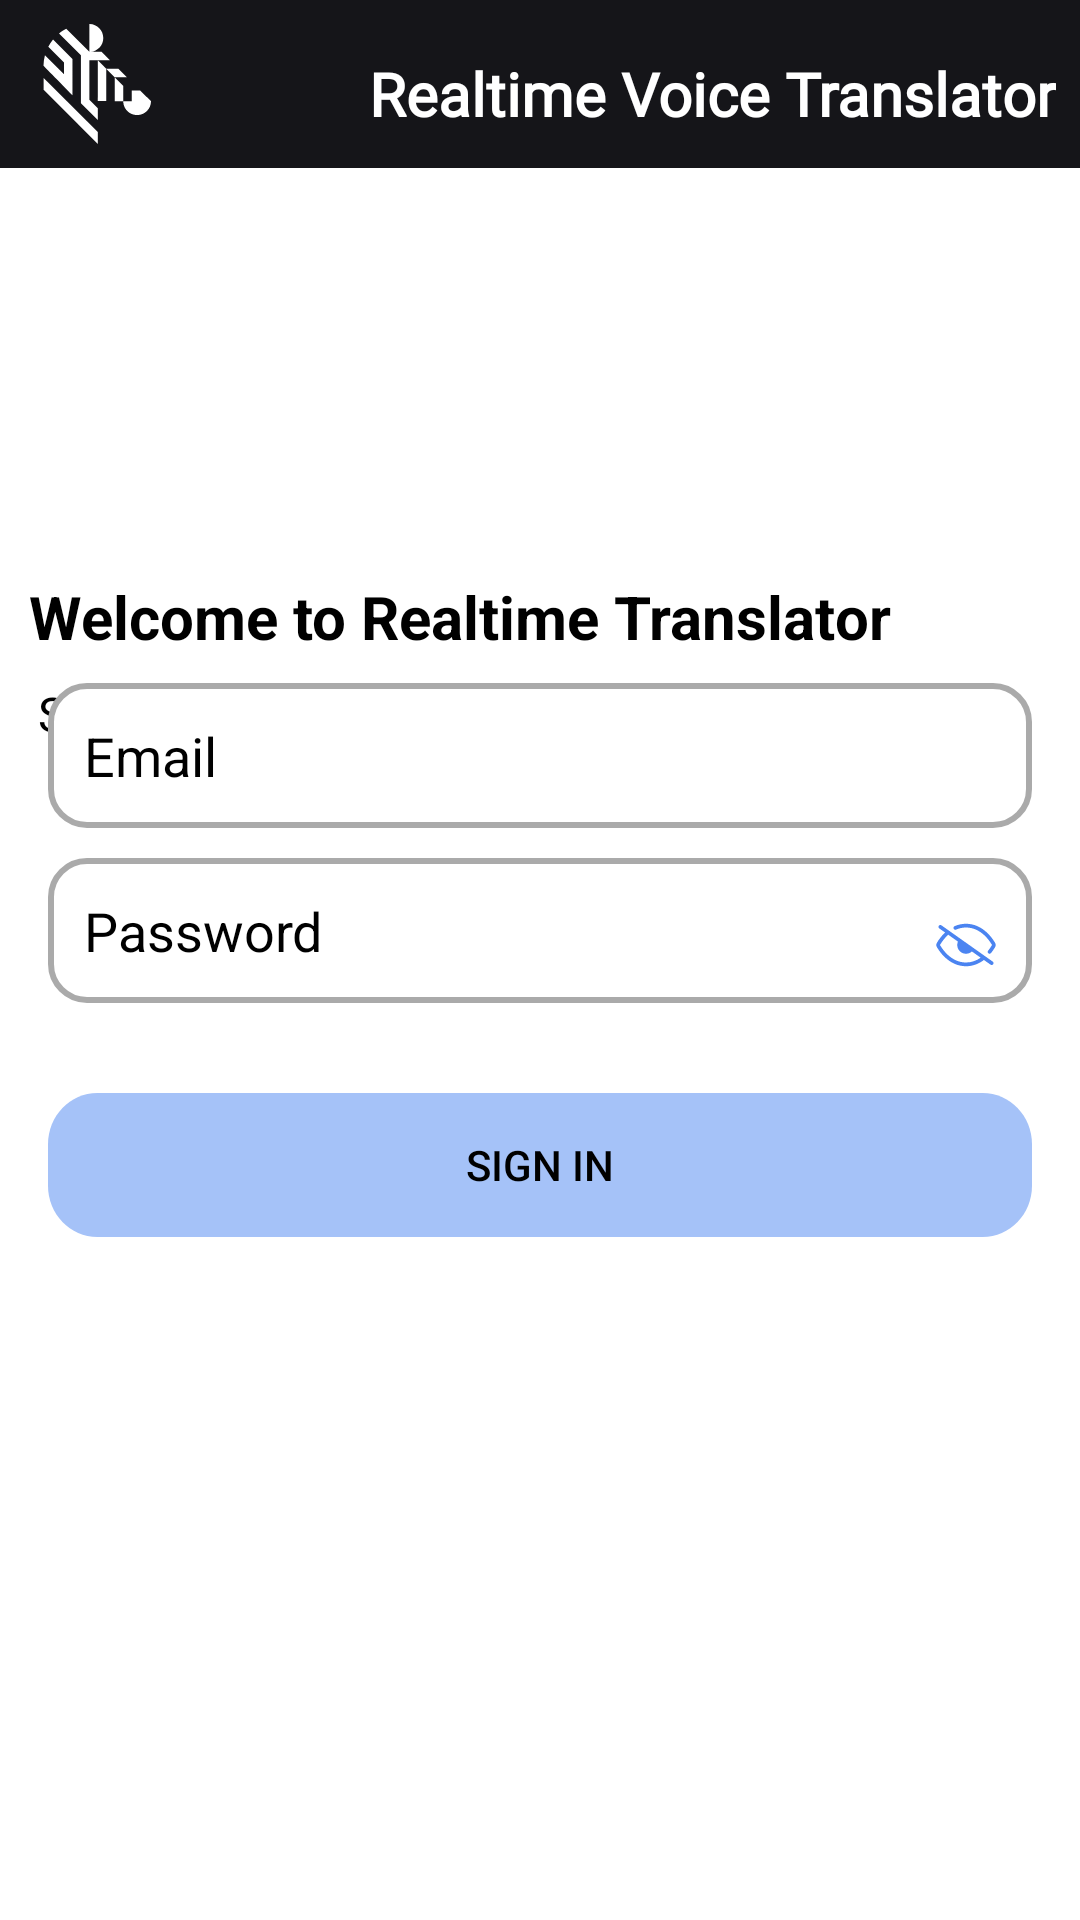

Screen size 1080px x 1920px. Icon name, then its box in pixels as bbox=(x1, y1, x2, y2):
eye: bbox=(936, 923, 996, 967)
